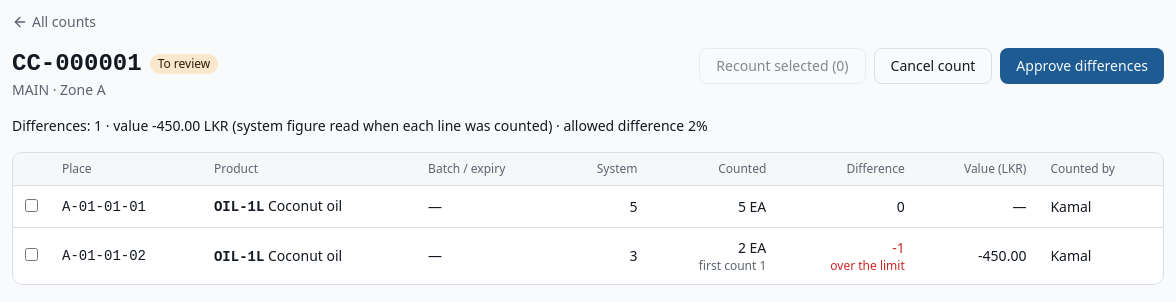
Test: shows the manager expected, counted and difference, and approves
Later steps or results of the test are not shown.
Check: the text "-1" is shown, box [892,238,905,257]
Check: the text "Differences: 1" is shown, box [12,116,552,135]
Click the checkbox named "Select A-01-01-02 OIL-1L": [32, 254] box [25,248,38,261]
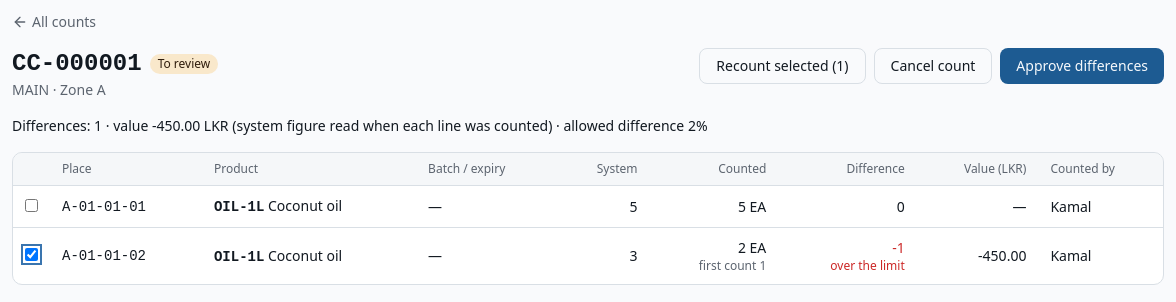
Check: the button "Recount selected (1)" is enabled, box [699,48,866,84]
